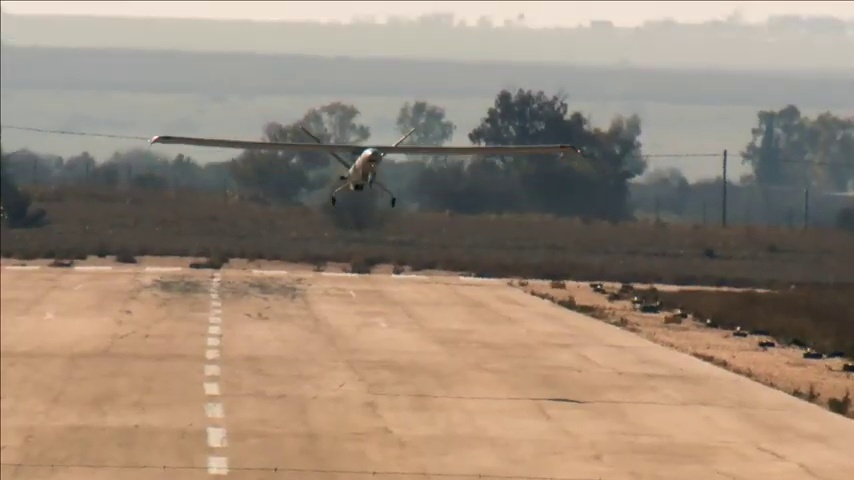military drone: (148, 125, 582, 208)
